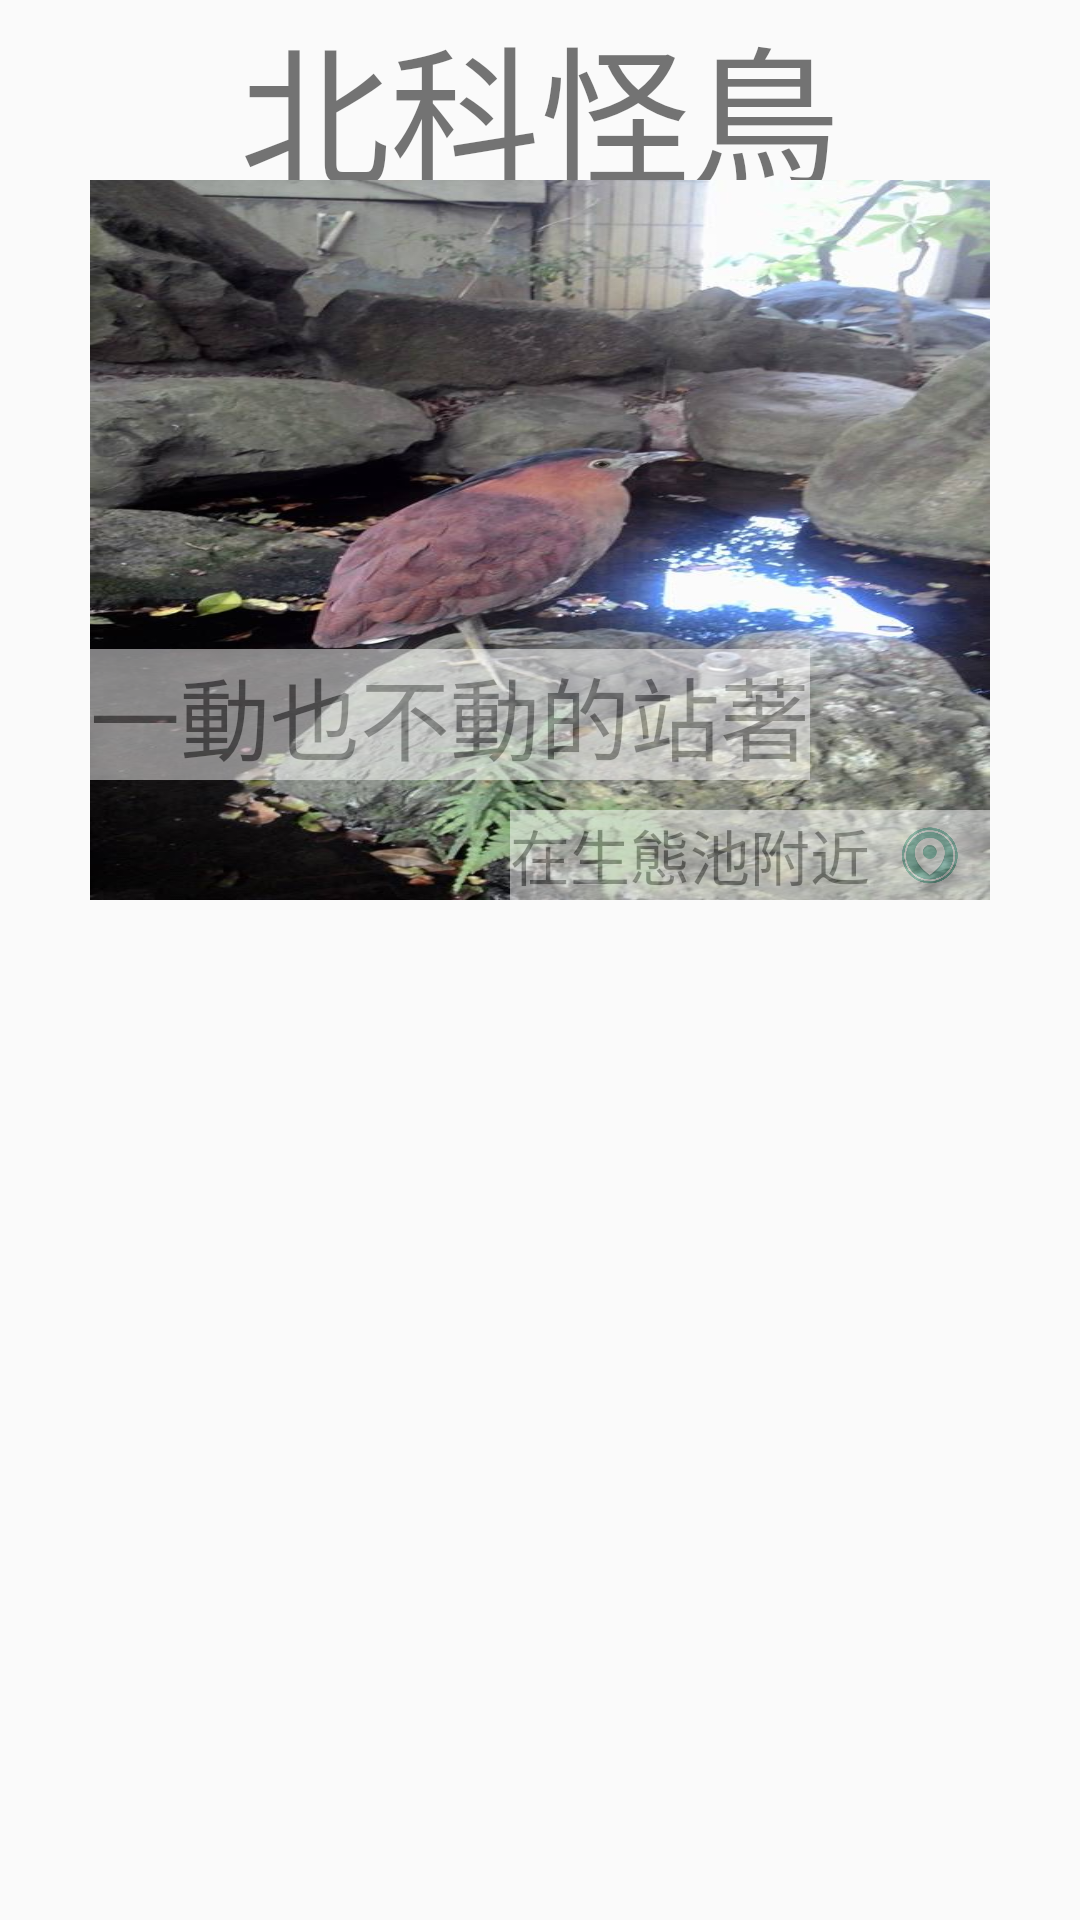

Icons on this 1080 × 1920 Android screen, each with its box as (x1,y1,x2,y2):
location: (900,825,958,885)
